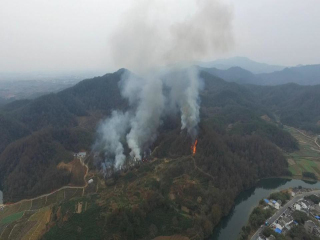smoke: (90, 3, 234, 175)
